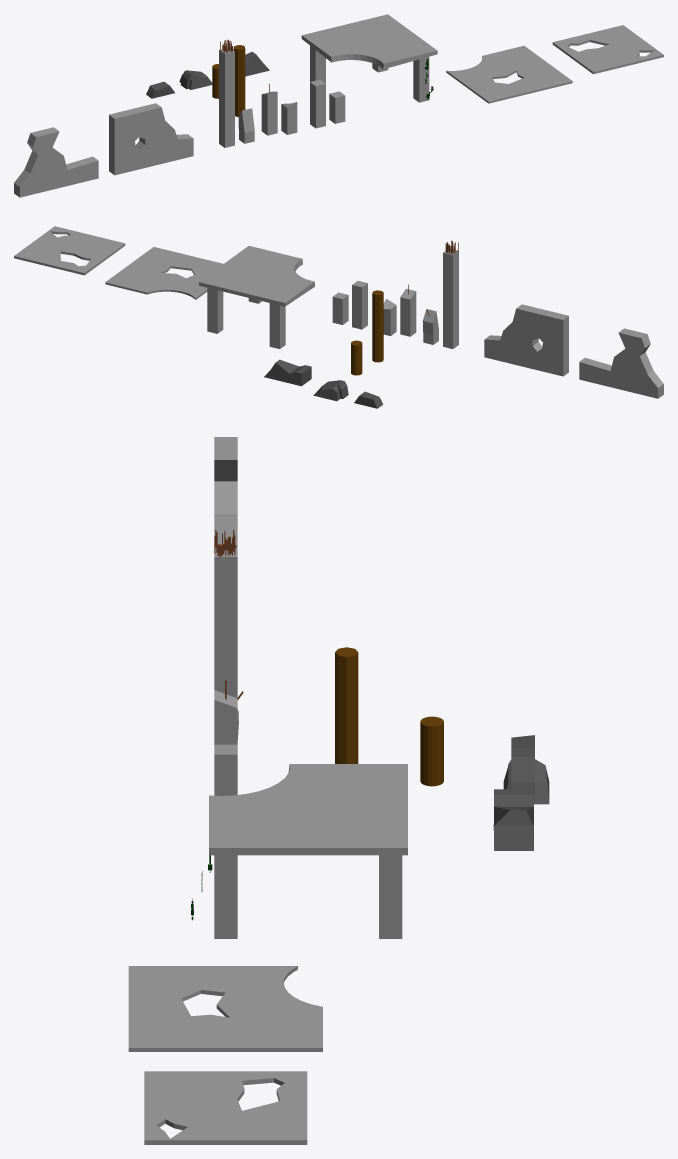
The model's file is brokenBuildings.fbx.
3 renders of one model, top to bottom at view 1: azimuth 30°, elevation 25°; view 2: azimuth 150°, elevation 25°; view 3: azimuth 270°, elevation 25°, orthographic. The views are drawn at different scales.
Visible parts, largest first — view 1: BuildFloor1, Wall2, Floor1, Wall1, Floor2, Column6, Log2, Column2, Column4, Column5, Column3, Column1 (+3 smaller); view 2: BuildFloor1, Wall2, Floor1, Wall1, Floor2, Column6, Log2, Rock4, Column4, Column2, Column5, Column1 (+4 smaller); view 3: BuildFloor1, Floor1, Floor2, Column6, Log2, Rock4, Wall1, Log1, Rock1, Column4, Column2.
Boxes of the visible parts, <box> form: BuildFloor1: <box>301,14,437,102</box>; Wall2: <box>109,103,193,175</box>; Floor1: <box>446,45,572,103</box>; Wall1: <box>14,127,98,197</box>; Floor2: <box>552,25,663,74</box>; Column6: <box>219,39,234,147</box>; Log2: <box>234,45,245,116</box>; Column2: <box>310,79,325,128</box>; Column4: <box>261,83,277,135</box>; Column5: <box>238,102,254,143</box>; Column3: <box>281,102,297,134</box>; Column1: <box>329,91,345,123</box>; BuildFloor1: <box>199,246,314,348</box>; Wall2: <box>484,304,568,376</box>; Floor1: <box>105,247,223,299</box>; Wall1: <box>579,328,663,398</box>; Floor2: <box>14,226,125,275</box>; Column6: <box>443,240,458,348</box>; Log2: <box>372,290,383,362</box>; Rock4: <box>264,359,311,386</box>; Column4: <box>400,284,416,336</box>; Column2: <box>352,281,367,329</box>; Column5: <box>422,309,438,344</box>; Column1: <box>332,292,348,324</box>; BuildFloor1: <box>209,764,407,938</box>; Floor1: <box>128,966,322,1051</box>; Floor2: <box>144,1071,307,1144</box>; Column6: <box>214,529,237,697</box>; Log2: <box>335,647,358,763</box>; Rock4: <box>493,789,533,850</box>; Wall1: <box>214,437,237,515</box>; Log1: <box>420,716,443,786</box>; Rock1: <box>503,759,549,804</box>; Column4: <box>214,680,237,744</box>; Column2: <box>214,744,237,795</box>.
Bounding box in the file's own units: 12373 × 2042 × 3595.
